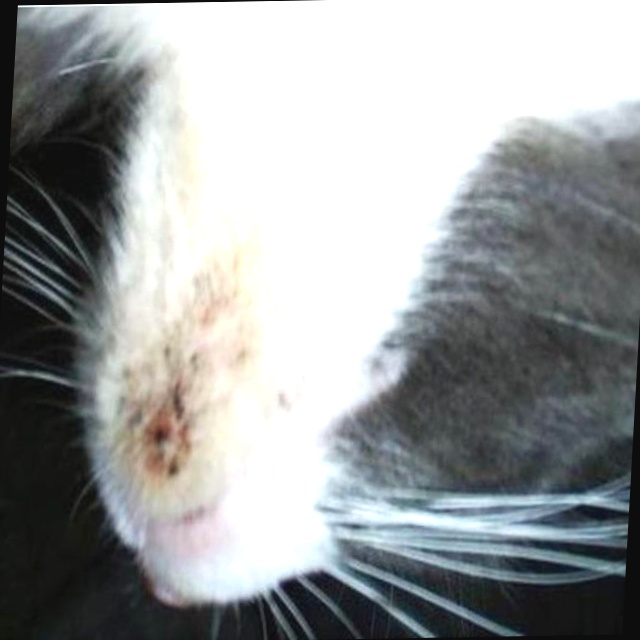acne: (120, 342, 192, 490)
